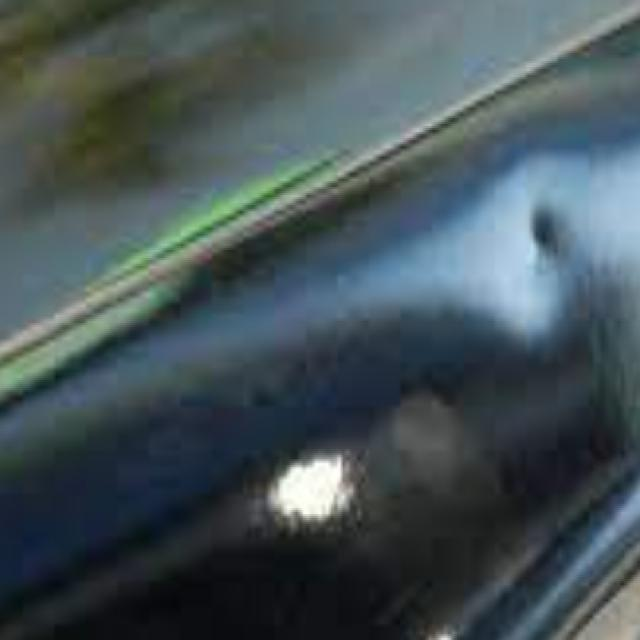dents: (514, 188, 594, 313)
